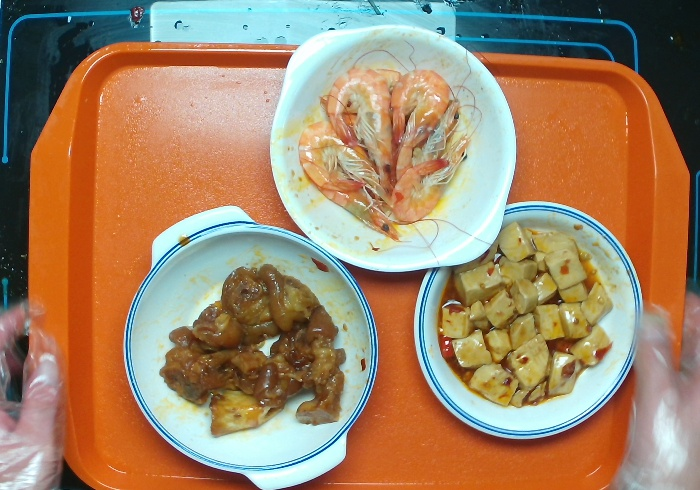HZYJPL-Dai_Er_Bai_Yuan_Wan: (259, 19, 523, 279)
HZYJPL-Lan_Bian_Dai_Er_Wan: (119, 199, 383, 490)
HZYJPL-Lan_Bian_Yuan_Die: (396, 190, 660, 456)
